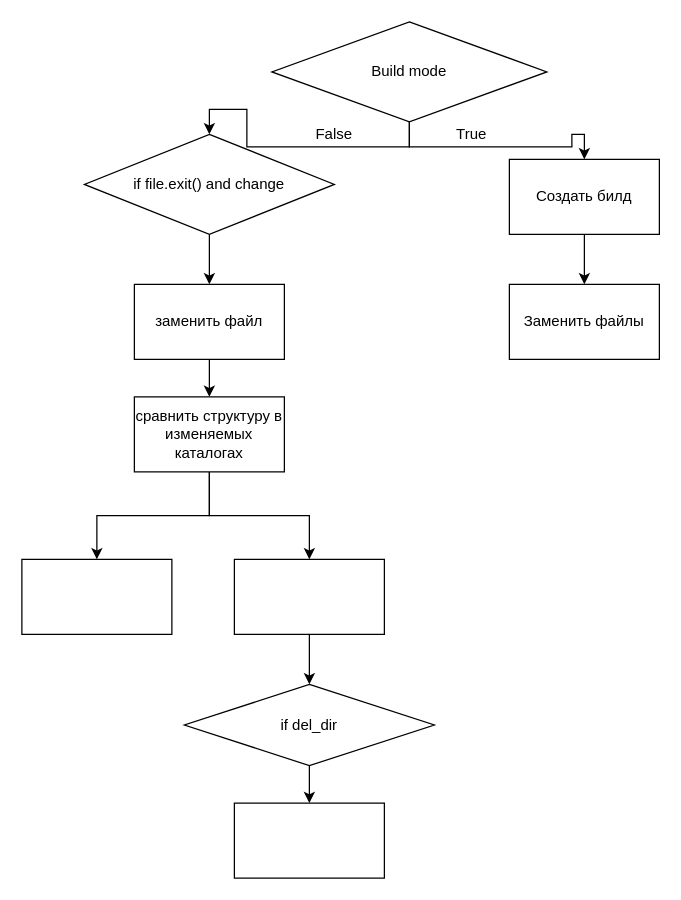
Some shapes in this 681 by 900 pixel diagram are drawn without their labels. The shapes that lost their labels are listed below. From the top down, each one's box as (x1, y1, x2, y2) in pixels, then its label:
(21, 558, 172, 634): Загрузить недостающее
(233, 558, 384, 634): Удалить лишнее
(233, 802, 384, 878): Удалить пустые директории
